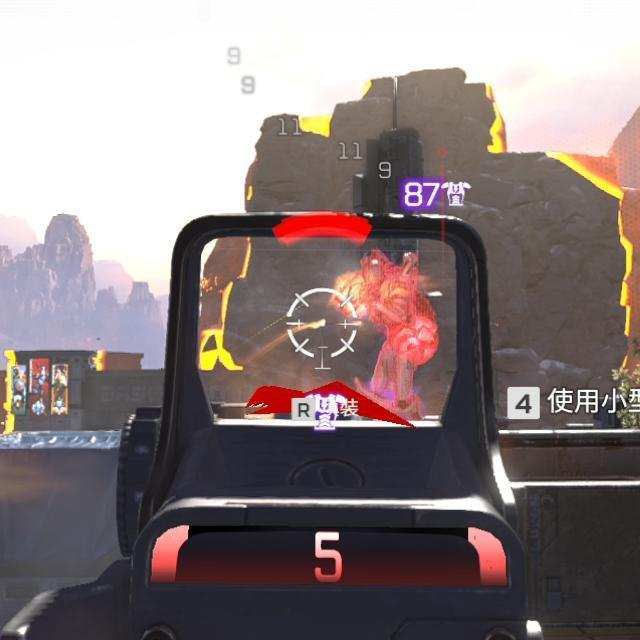avatar: (342, 251, 441, 423)
